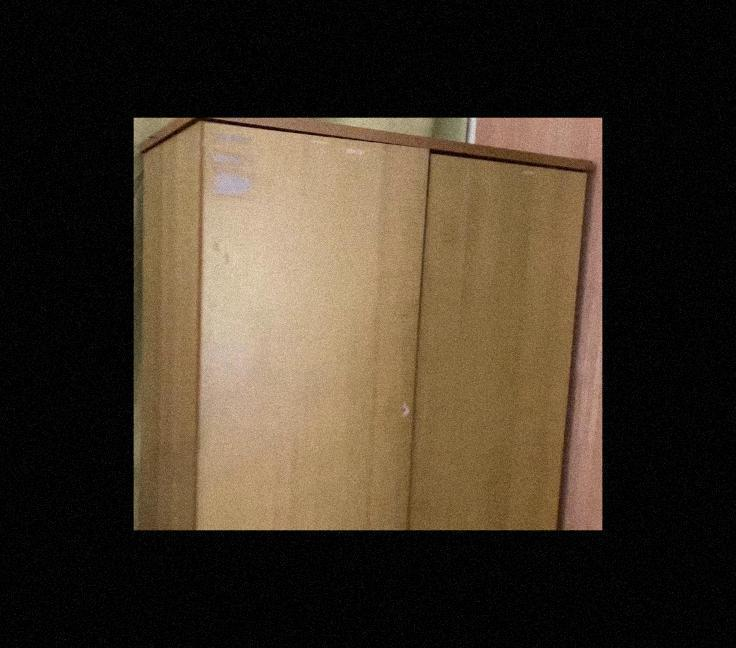Armario: (140, 127, 592, 525)
